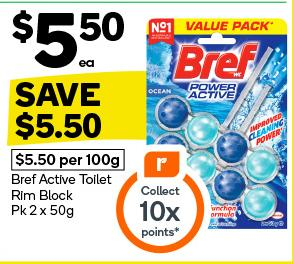description_block: (4, 170, 114, 228)
price_main: (10, 7, 128, 70)
product_image_block: (138, 12, 290, 235)
promo_text_block: (3, 74, 148, 145)
unit_price_block: (8, 148, 127, 173)
